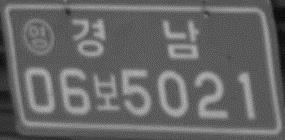0: (23, 65, 56, 116), (156, 69, 189, 117)
1: (235, 70, 261, 120)
2: (193, 70, 229, 119)
5: (120, 66, 153, 116)
6: (59, 67, 91, 115)
경남_D: (68, 16, 201, 62)
보: (91, 70, 122, 114)
영: (20, 17, 57, 58)
